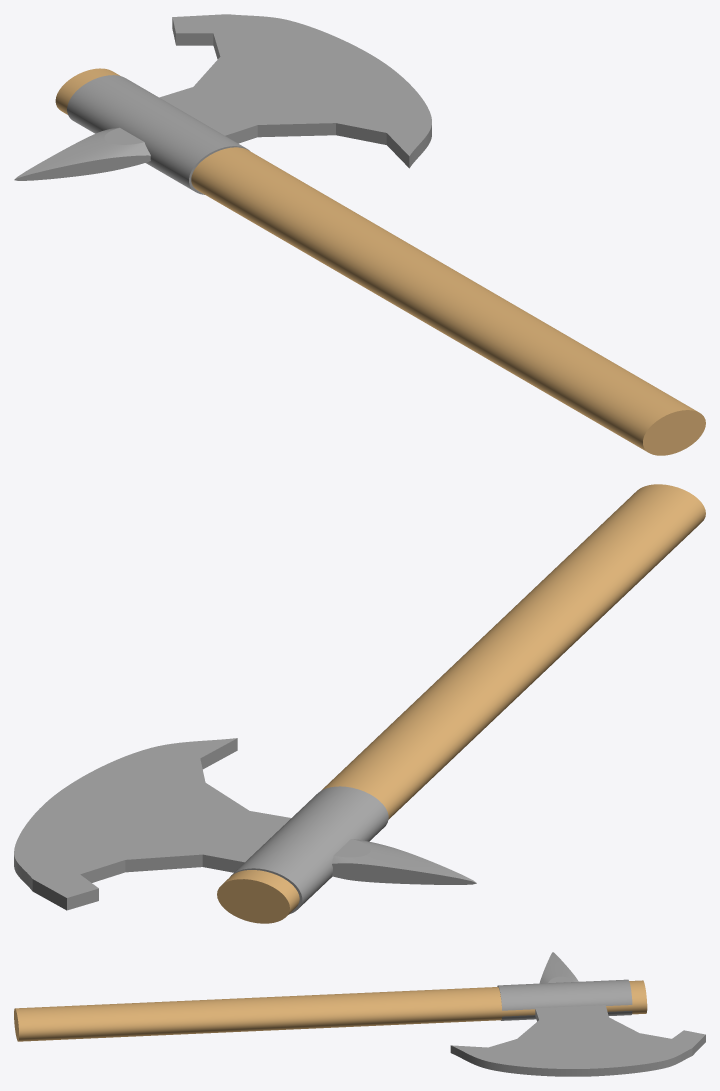
3 views of the same model, one above another, from view 1: azimuth 30°, elevation 25°; view 2: azimuth 150°, elevation 25°; view 3: azimuth 270°, elevation 25° (orthographic). The views are drawn at different scales.
Visible parts, largest first — view 1: poleaxe; view 2: poleaxe; view 3: poleaxe.
Part boxes in pixels (x1,y1,x2,y2): poleaxe: (14,14,705,455); poleaxe: (14,484,705,923); poleaxe: (14,952,705,1076).
Bounding box in the file's own units: 0.1679 × 0.0184 × 0.4065.
